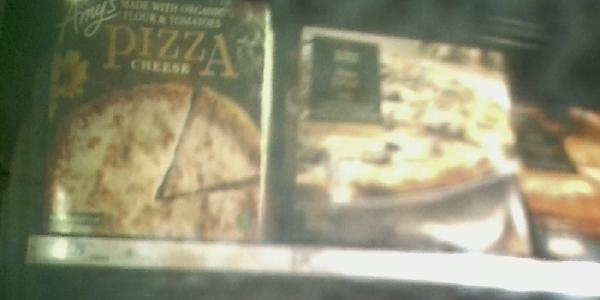pizza1: (42, 1, 268, 291), (297, 22, 535, 258)
